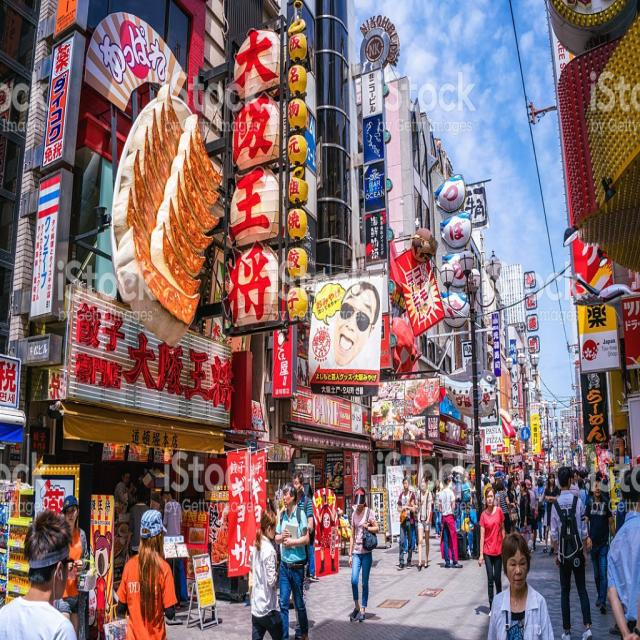body: (0, 508, 78, 640), (114, 507, 179, 639), (548, 463, 594, 639), (486, 530, 556, 640), (51, 493, 99, 639), (604, 469, 639, 639), (272, 480, 309, 639), (249, 507, 291, 639), (327, 277, 381, 370), (583, 474, 618, 616), (347, 485, 381, 623), (476, 486, 506, 620), (290, 470, 316, 616), (160, 485, 183, 610), (608, 491, 627, 638), (113, 467, 139, 558), (438, 475, 463, 569), (414, 475, 434, 572), (396, 475, 416, 572), (542, 472, 562, 558), (541, 433, 583, 472), (128, 484, 150, 556), (562, 472, 580, 560), (450, 472, 466, 550), (464, 468, 476, 560), (527, 474, 540, 551), (495, 480, 512, 537), (582, 475, 594, 542), (536, 477, 547, 544), (506, 477, 518, 533), (518, 479, 531, 530), (432, 479, 442, 539), (512, 474, 522, 530), (596, 471, 610, 502), (577, 478, 589, 509), (570, 464, 589, 478), (481, 476, 488, 513), (506, 452, 522, 464), (496, 474, 508, 486), (554, 474, 562, 488), (424, 474, 432, 487), (480, 472, 487, 486), (537, 468, 547, 476), (490, 472, 496, 484), (515, 471, 521, 481), (604, 472, 609, 481), (570, 477, 576, 484), (510, 471, 516, 477), (449, 476, 453, 483)
